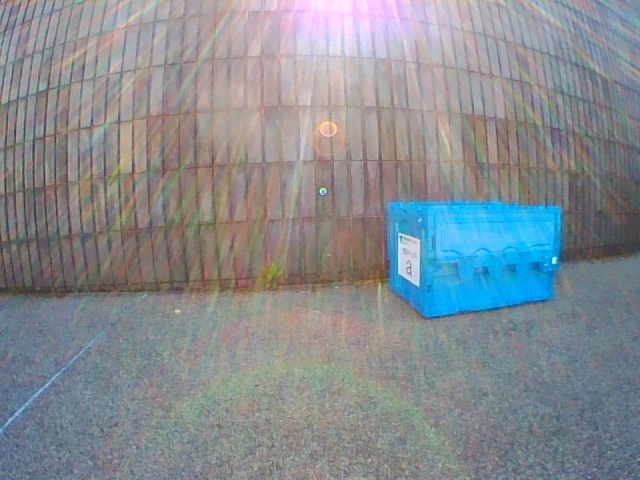blue_box: (388, 201, 561, 319)
tag_a: (402, 249, 416, 277)
